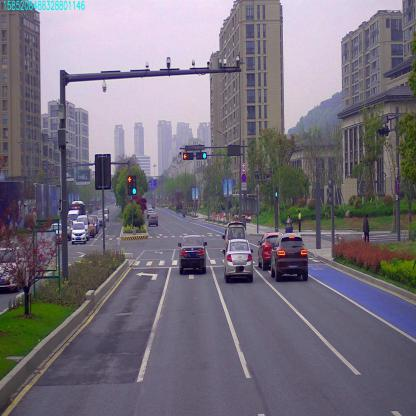traffic-light: (196, 152, 206, 161), (182, 153, 193, 159)
